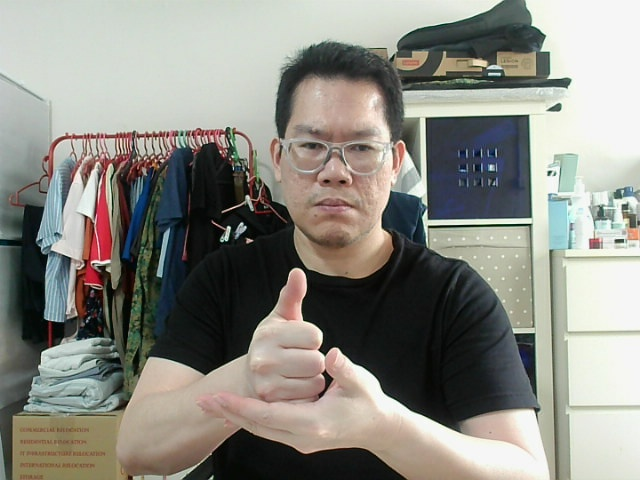help: (247, 273, 318, 405)
